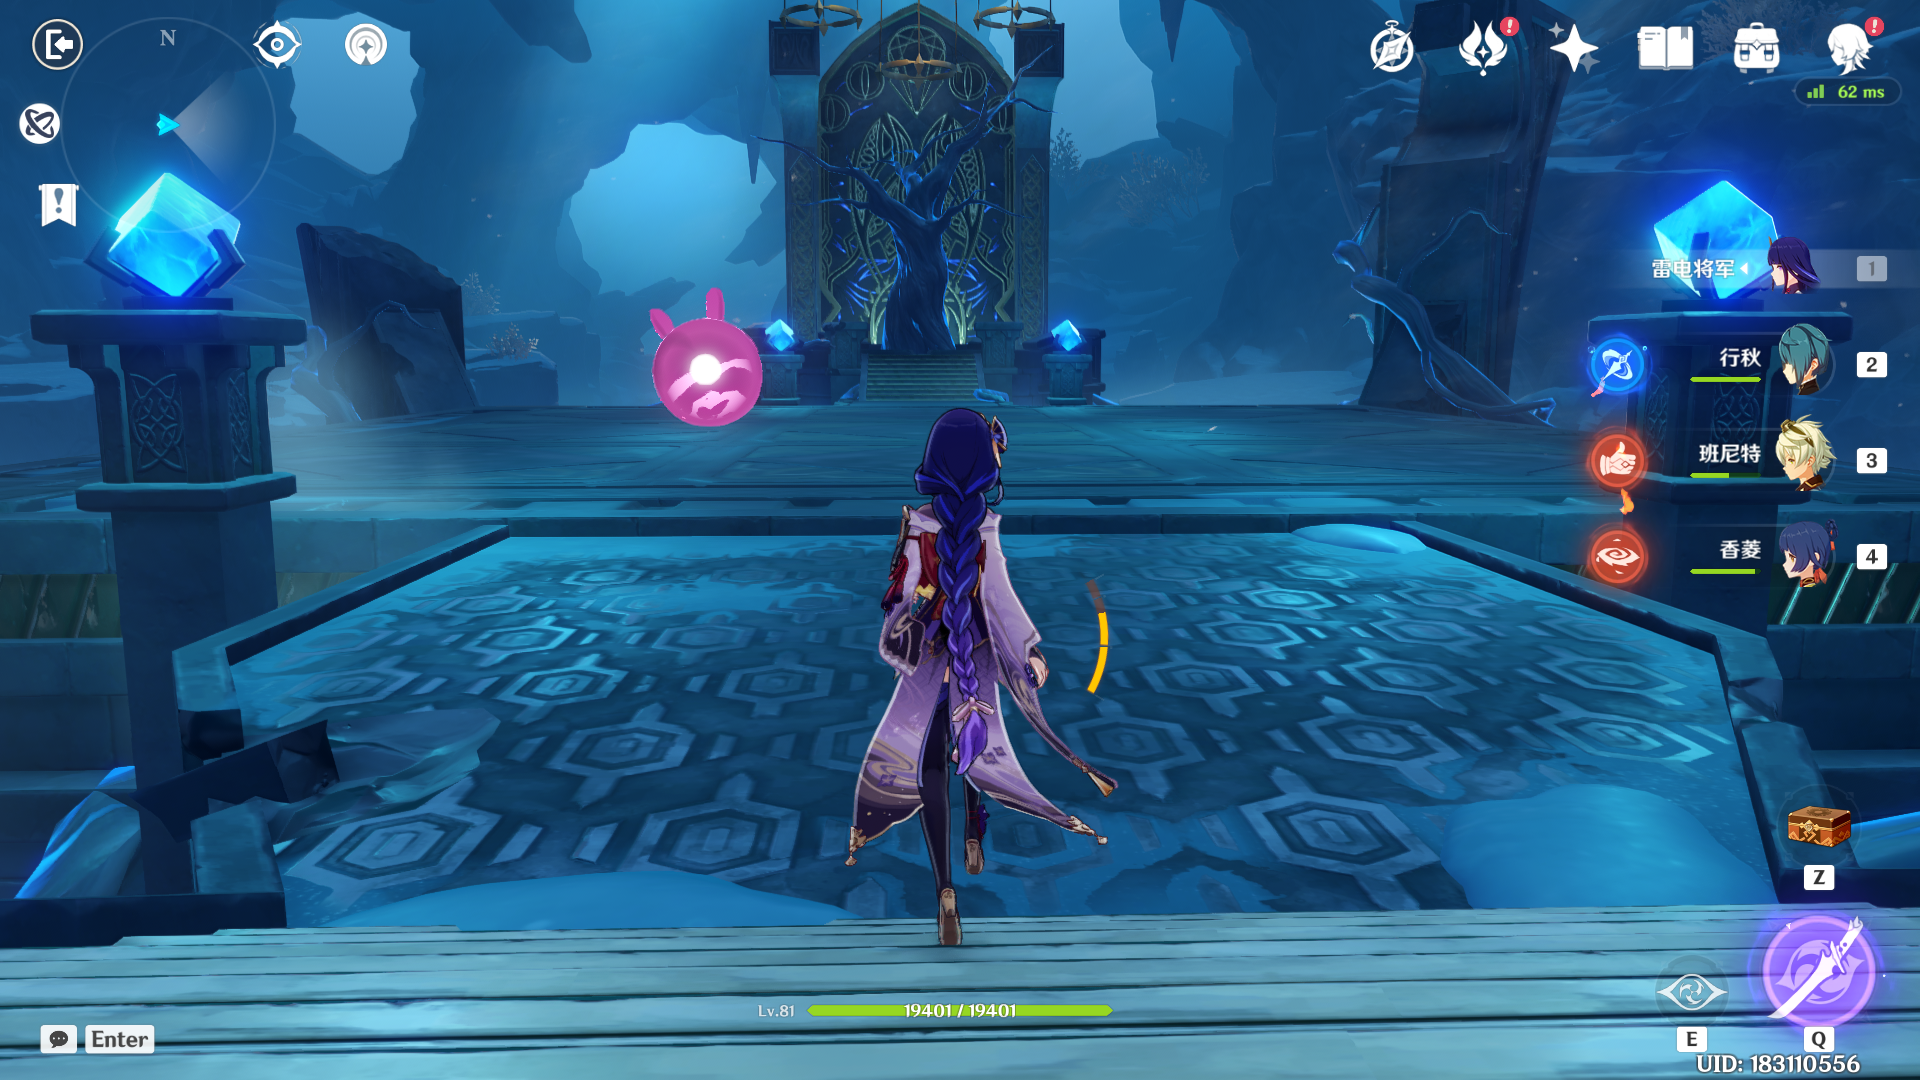character: (800, 363, 1134, 994)
